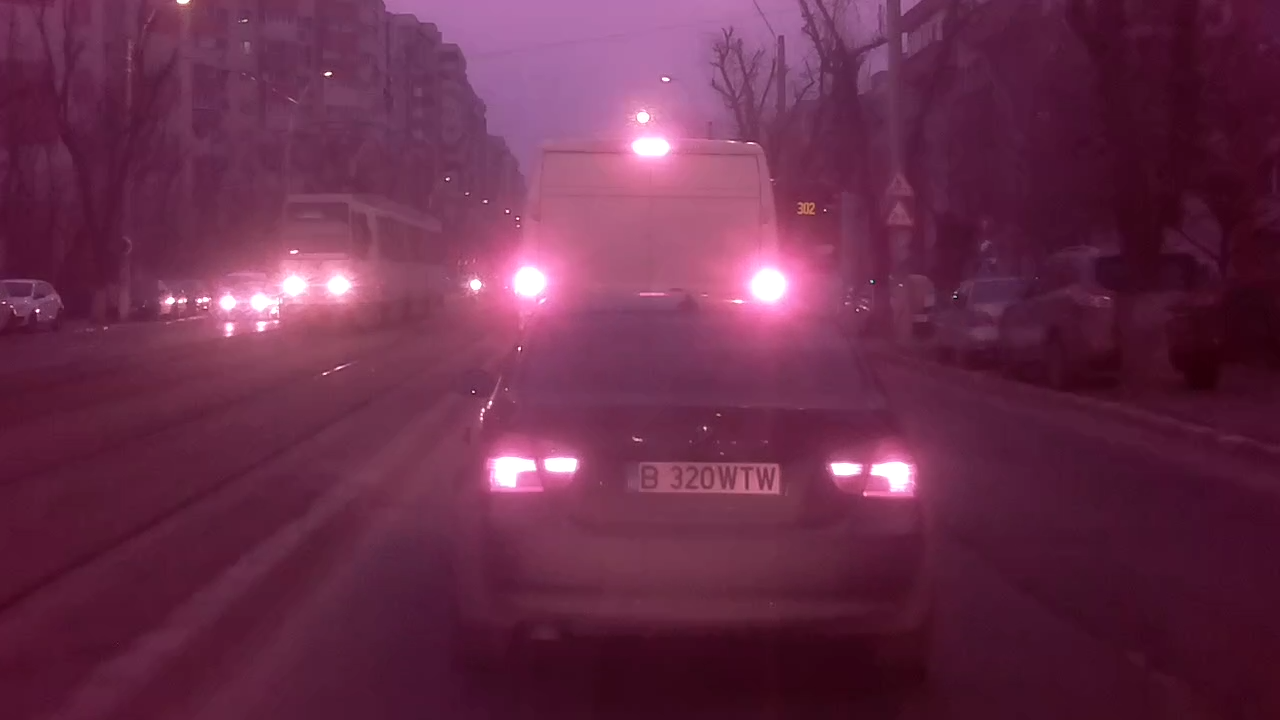license-plate: (616, 456, 788, 499)
